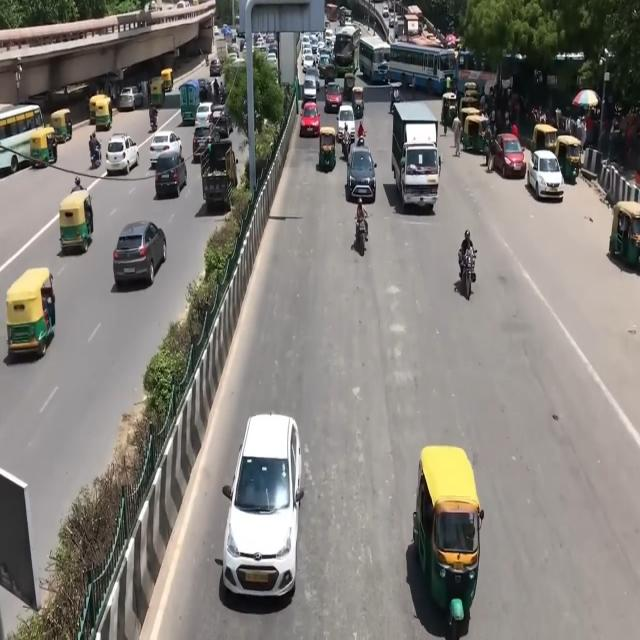auto: (415, 444, 483, 627), (6, 265, 55, 354), (59, 188, 95, 256), (608, 201, 640, 270), (318, 125, 337, 171), (50, 108, 73, 144), (90, 94, 112, 130), (150, 77, 166, 107), (352, 86, 364, 120), (160, 68, 173, 93)
bike-auto: (459, 228, 476, 281), (354, 198, 368, 244), (89, 134, 101, 168), (341, 128, 352, 161), (150, 107, 158, 132), (357, 120, 366, 142)
